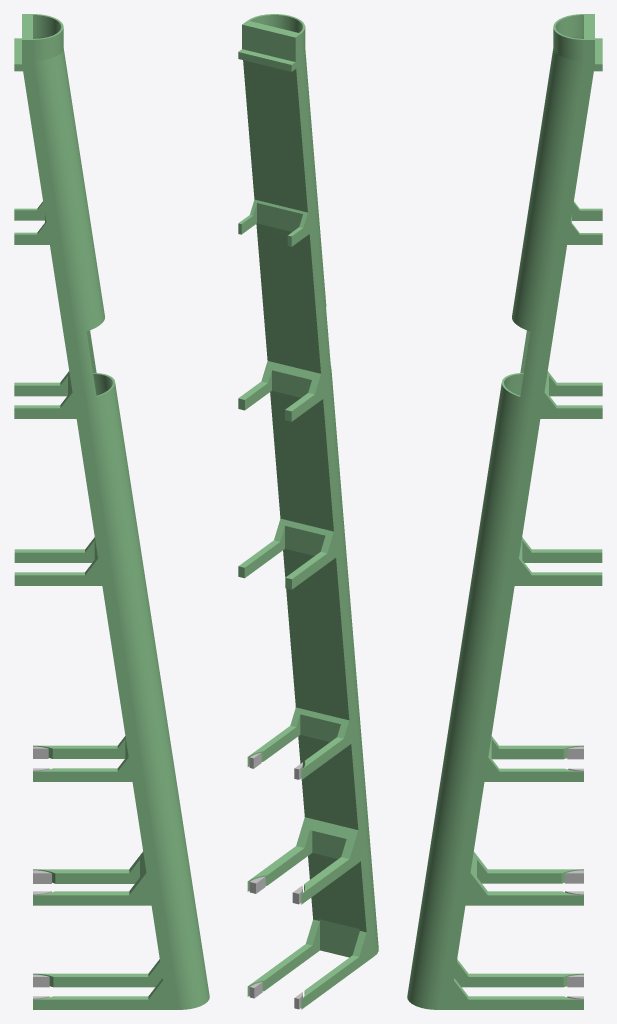
File: rullo5.glb
3 views of the same model, side by side, from view 1: azimuth 90°, elevation 25°; view 2: azimuth 150°, elevation 25°; view 3: azimuth 270°, elevation 25° (orthographic).
Visible parts, largest first — view 1: Body7; view 2: Body7; view 3: Body7.
Part boxes in pixels (<box>): Body7: <box>14,14,209,1009</box>; Body7: <box>238,14,378,1009</box>; Body7: <box>407,14,602,1009</box>.
Bounding box in the file's own units: 0.016 × 0.279 × 0.051.
